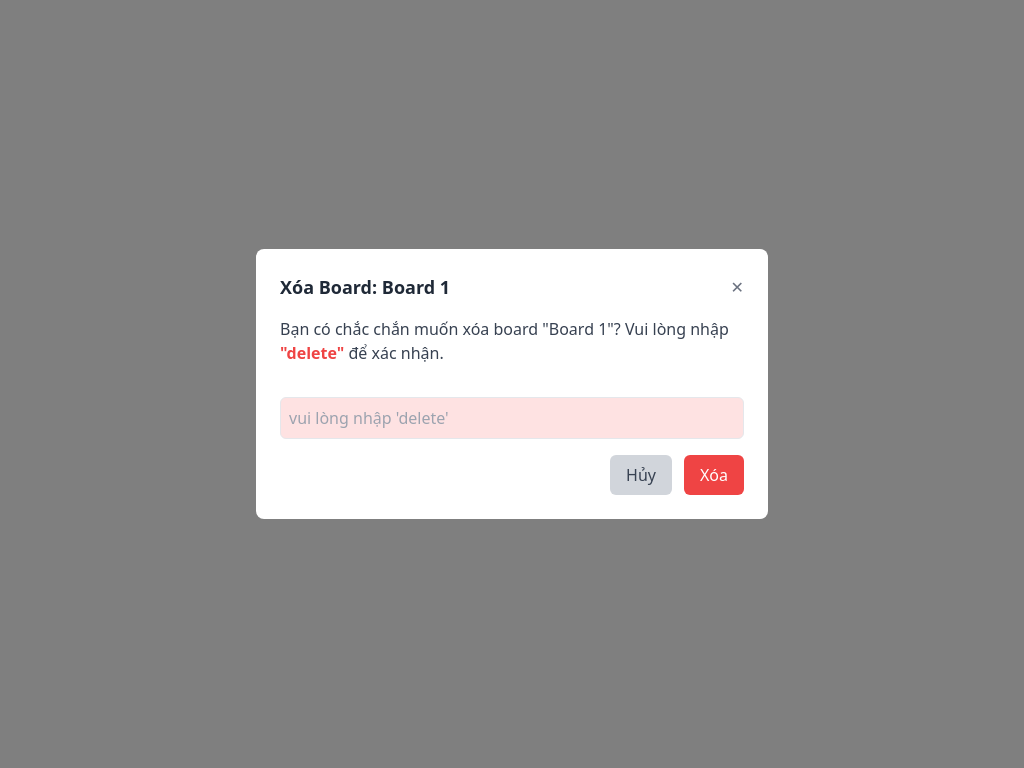
DeleteModal › không gọi deleteBoard nếu xác nhận sai
The width and height of the screenshot is (1024, 768).
Type "abc" into the field with placeholder "vui lòng nhập 'delete'" at (512, 418), box [280, 397, 744, 439]
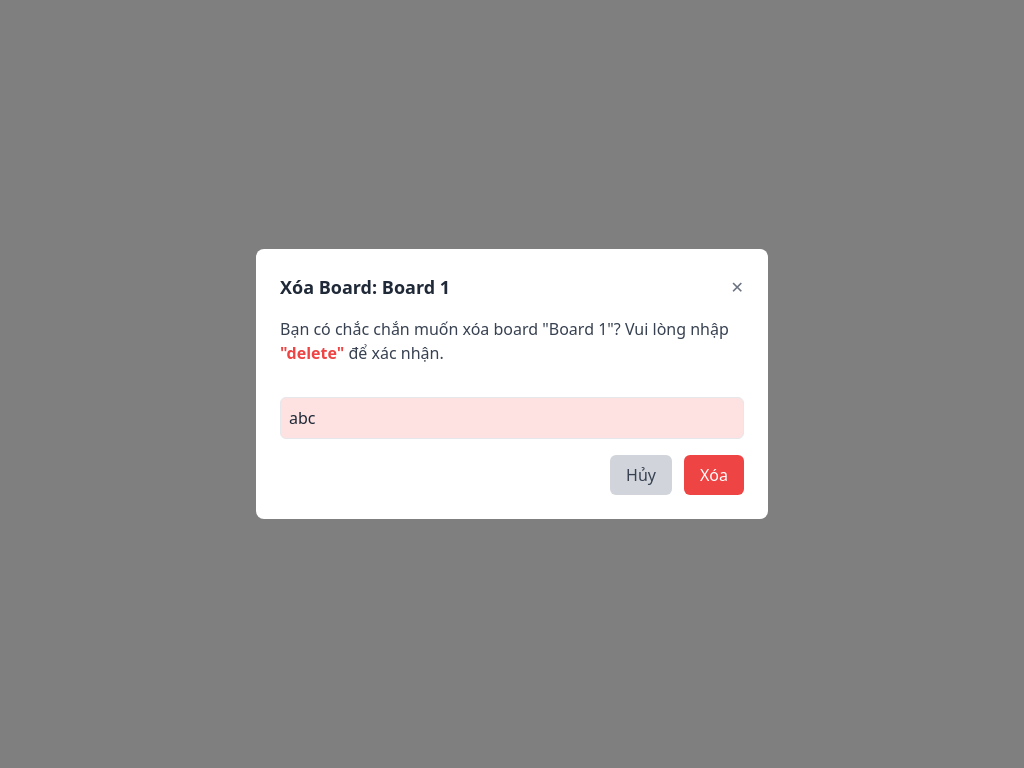
Click the button with test id "submit-delete-btn" at (714, 475), box [684, 455, 744, 495]
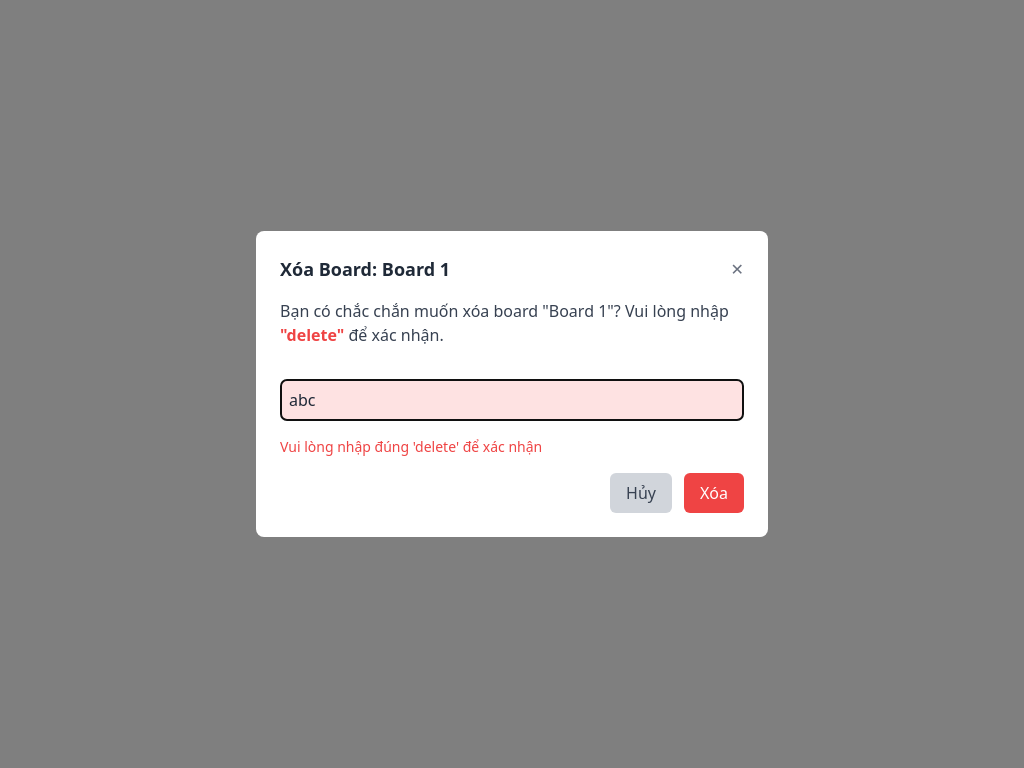
Now the text "Vui lòng nhập đúng 'delete' để xác nhận" is shown, box [280, 437, 542, 456]
